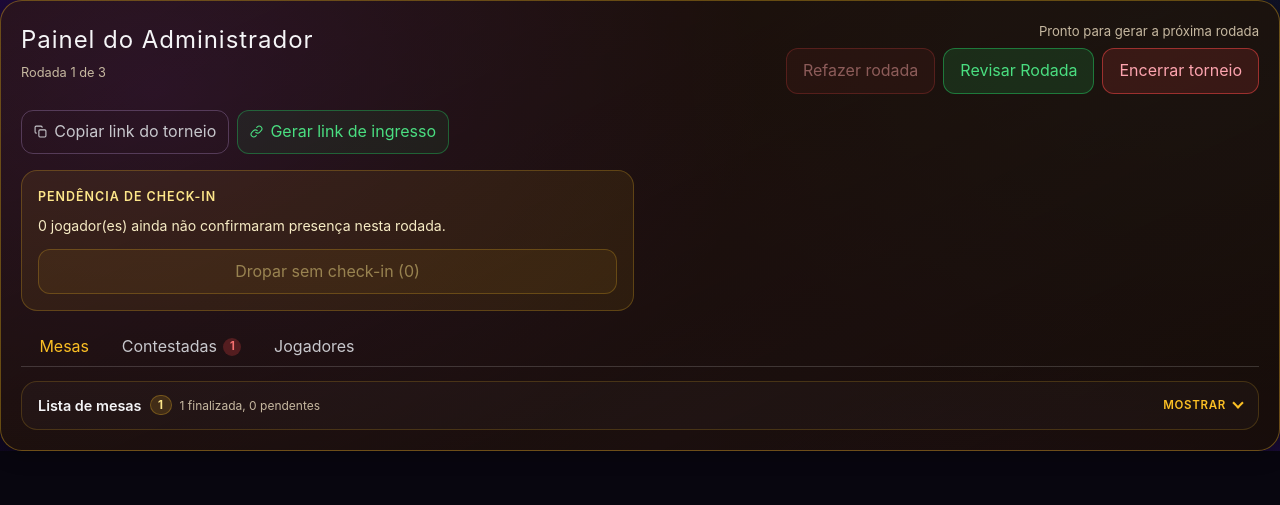
OwnerControlPanel › mostra observação de contestação na aba Contestadas
Click the button "Contestadas 1": (182, 347) [107,327,256,367]
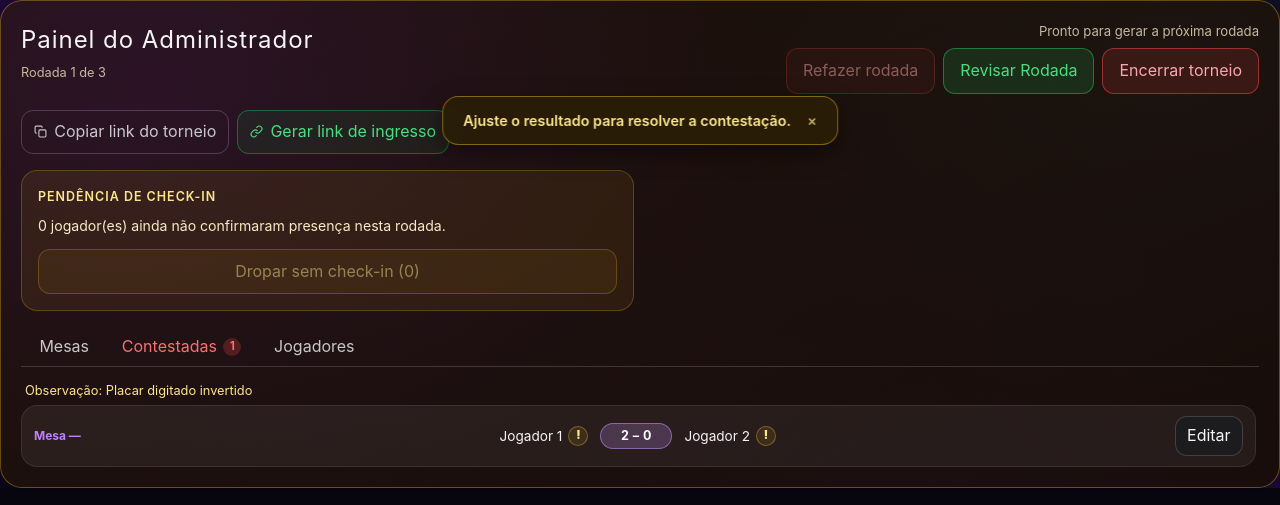
Check: the text "Observação: Placar digitado invertido" is shown, box [25,383,252,398]
